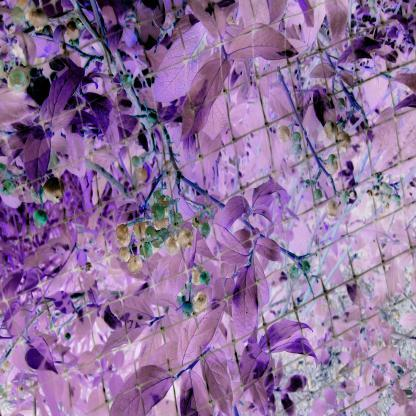Blueberry leaf: (178, 52, 231, 153), (218, 169, 290, 243), (252, 314, 326, 376), (226, 20, 293, 78), (112, 362, 180, 416), (36, 60, 94, 123), (182, 288, 226, 371), (79, 89, 126, 164), (228, 247, 260, 352), (17, 124, 52, 202), (200, 350, 241, 416), (201, 218, 248, 275), (92, 318, 155, 355), (240, 336, 267, 400)
